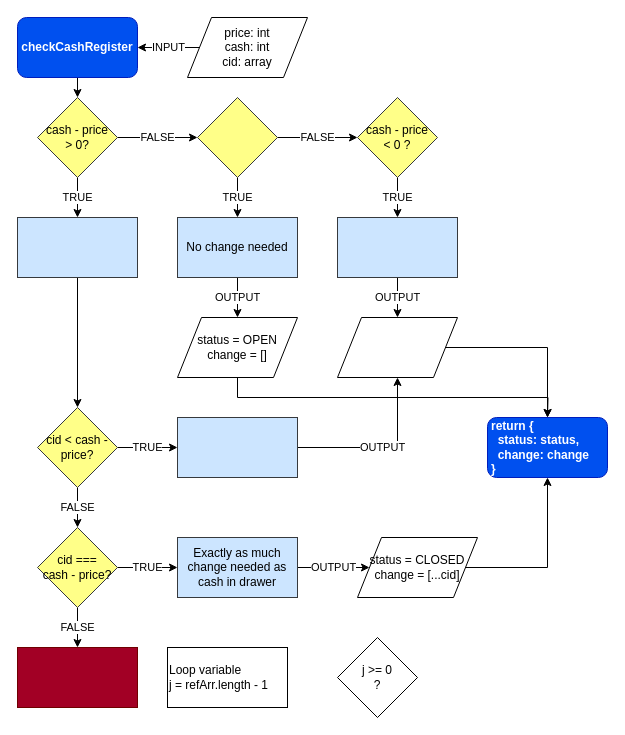
Image size: 625x735. Some labels were removed from this diagram. The shapes that lost their labels are listed below. From the top down, each one's centre as x and y in pixels, then its label:
pixel 237 137: cash - price = 0?
pixel 77 247: You need change
pixel 397 247: Not enough cash to pay for purchase
pixel 397 347: status = INSUFFICIENT FUNDS change = []
pixel 237 447: Not enough cash in drawer
pixel 77 677: Need to give exact change
